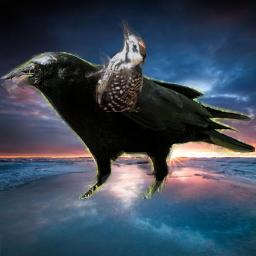Crow: (0, 52, 255, 199)
Woodpecker: (85, 19, 146, 112)
